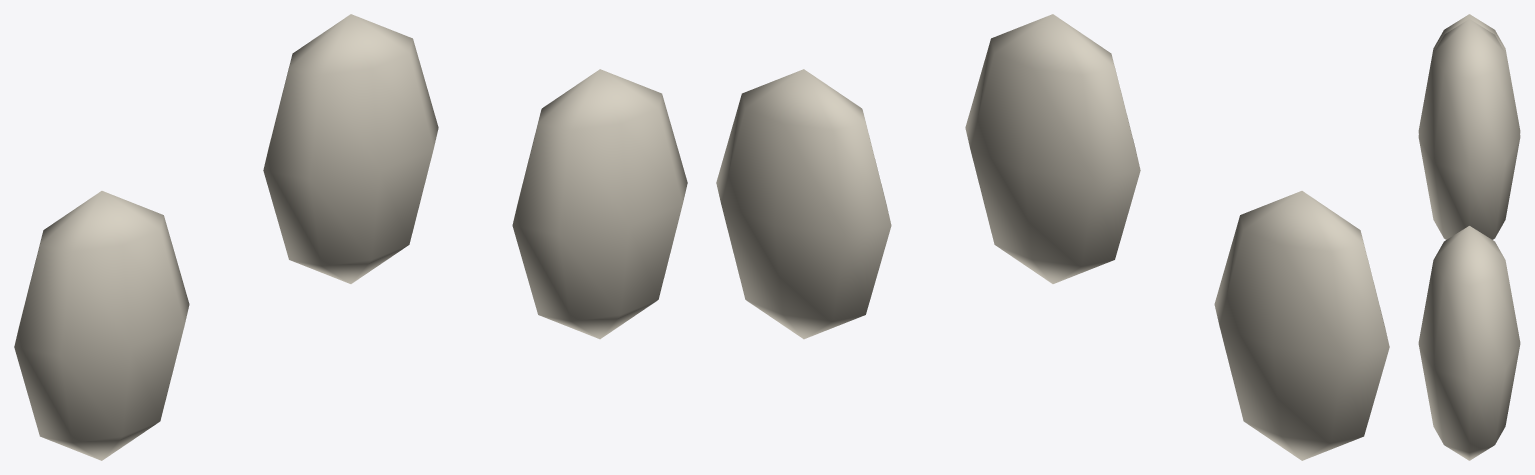
The model's file is rain.glb.
3 renders of one model, left to right at view 1: azimuth 30°, elevation 25°; view 2: azimuth 150°, elevation 25°; view 3: azimuth 270°, elevation 25°, orthographic. The views are drawn at different scales.
Parts seen in each view (by area): view 1: rain; view 2: rain; view 3: rain.
Boxes of the visible parts, x1,y1,x2,y2 form: rain: [14, 14, 687, 460]; rain: [716, 14, 1389, 460]; rain: [1418, 14, 1520, 460].
Size of the model in its own units: 0.3285 by 0.18 by 0.0495.
